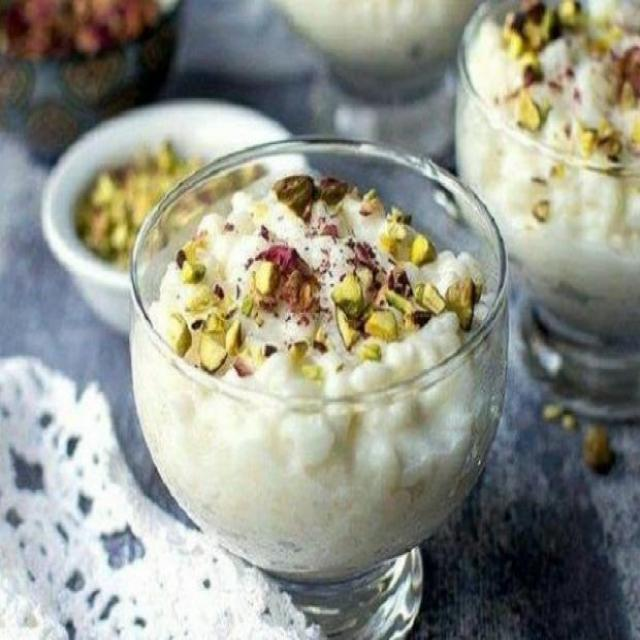roz blabn: (138, 171, 502, 553)
